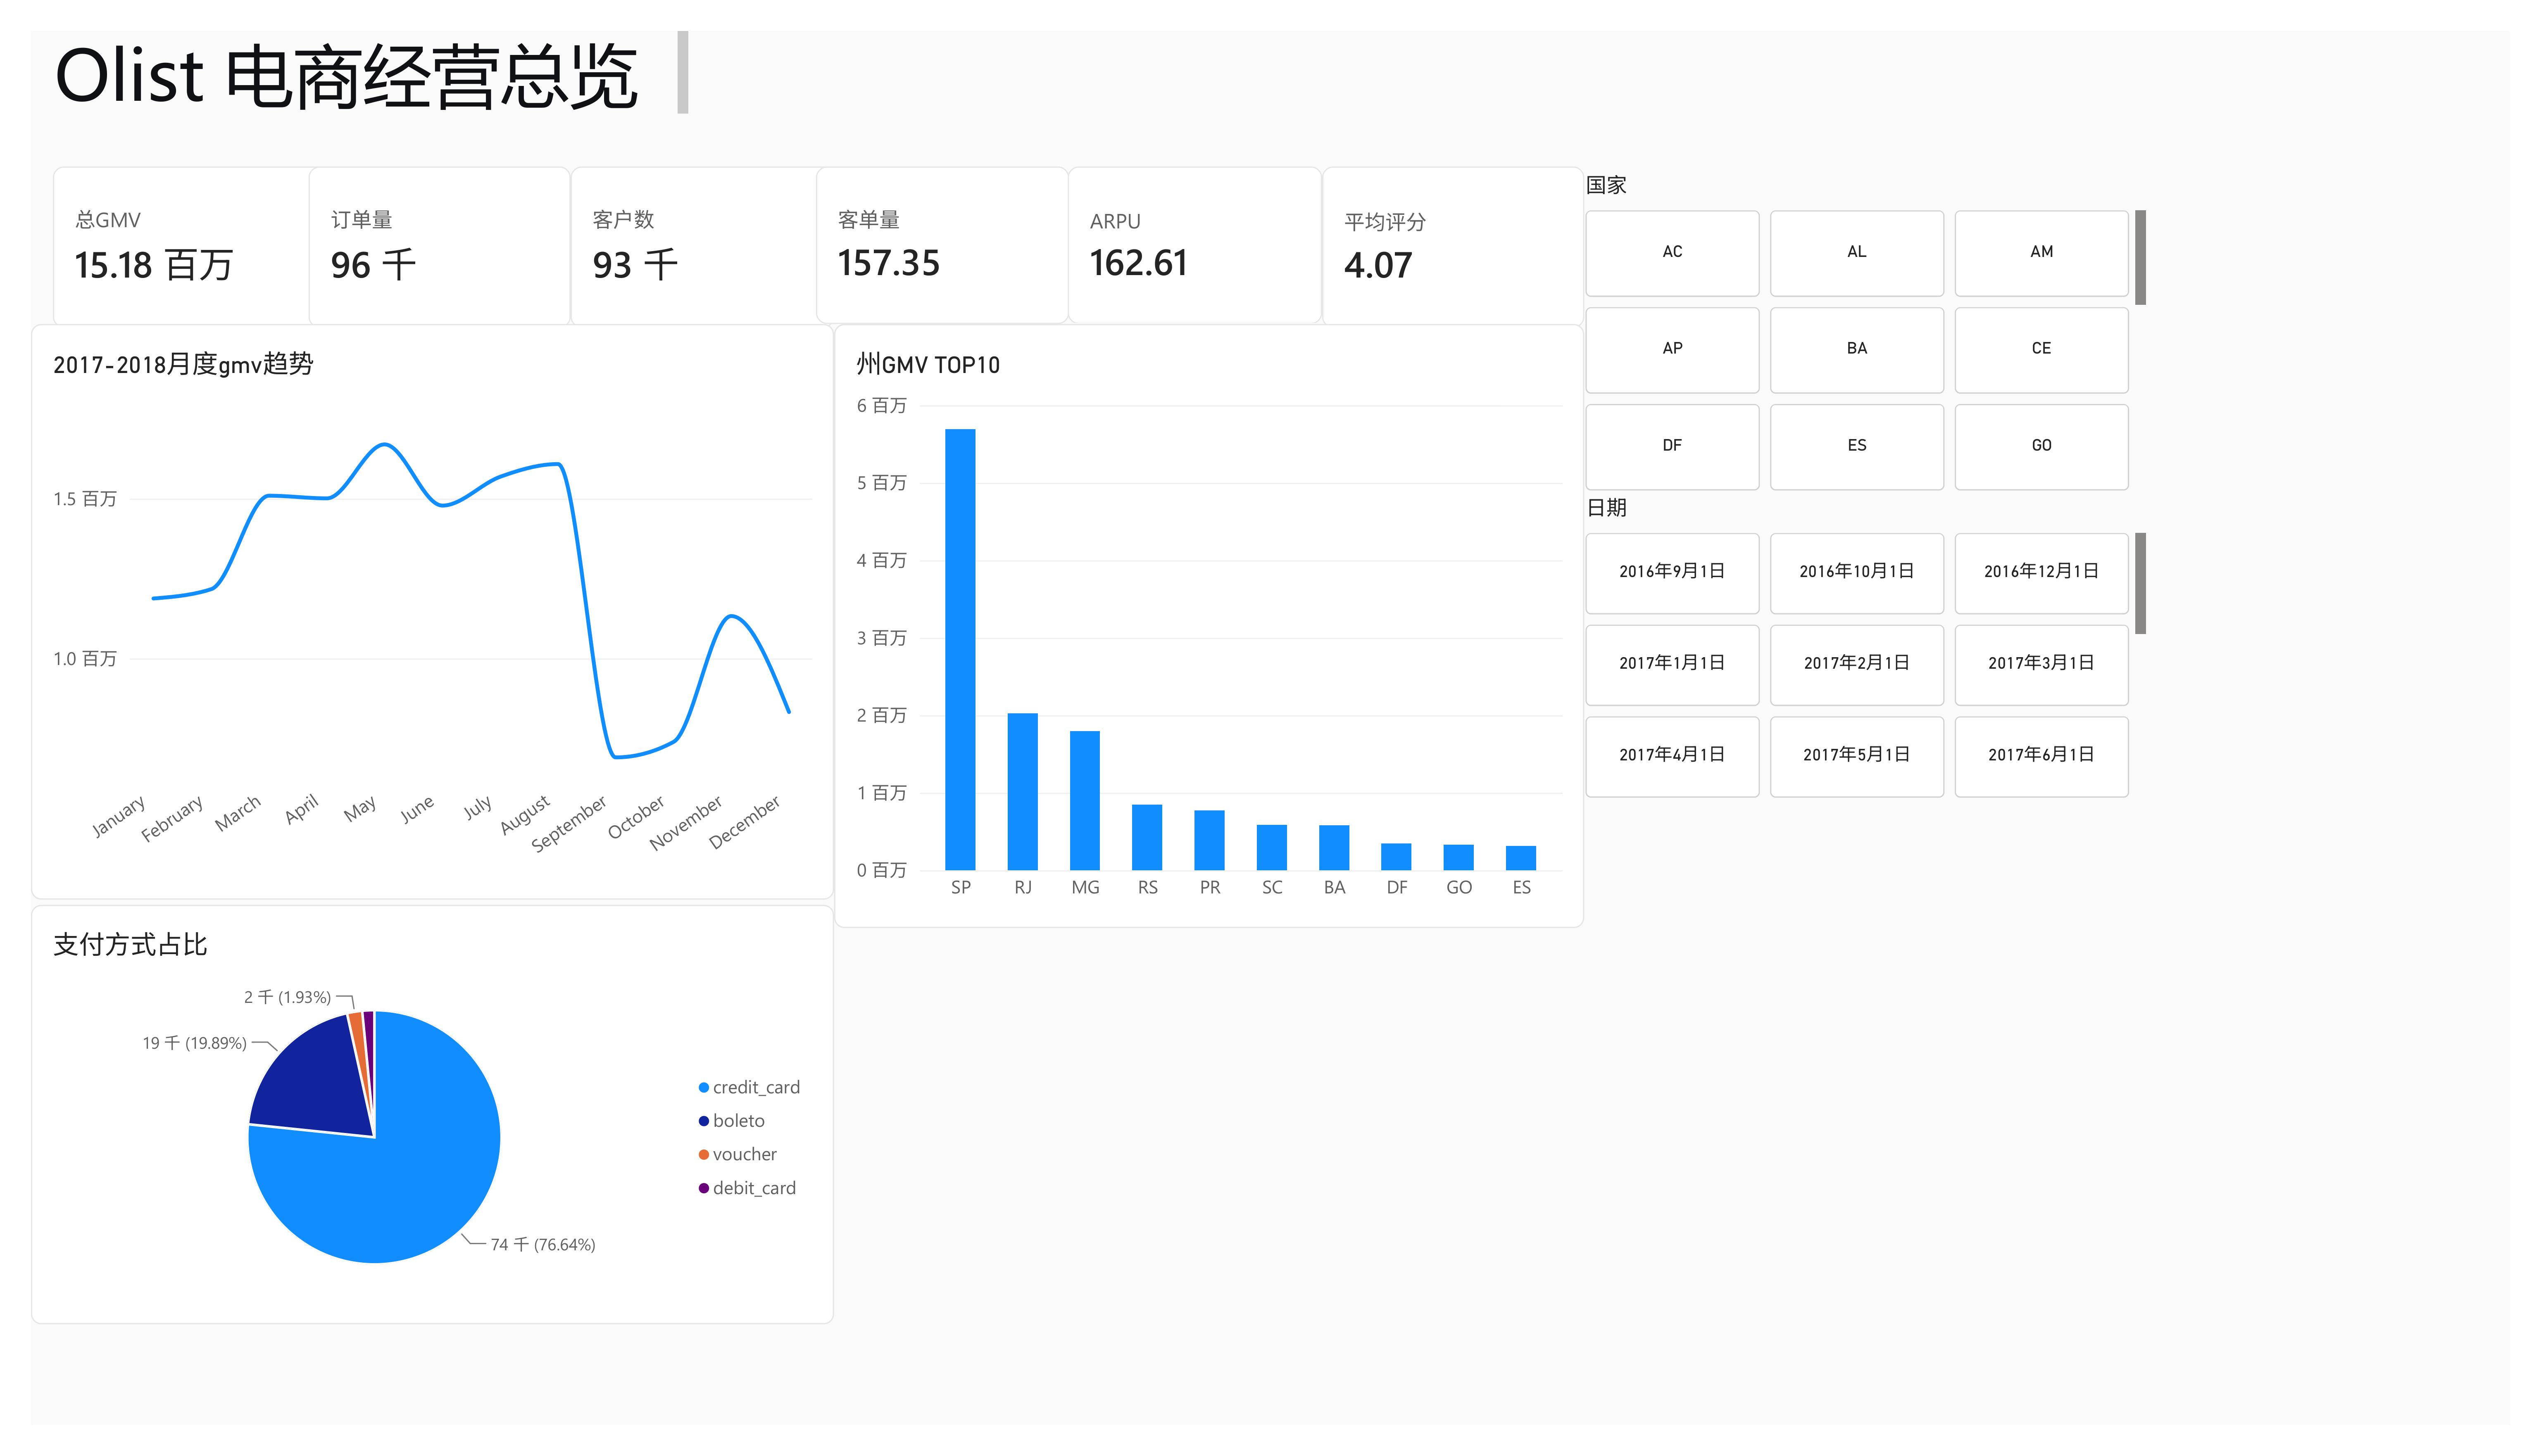

The dashboard page shown, as its layout file describes it:
{"tool":"powerbi","page":{"name":"经营总览","canvas":[1920,1080],"ordinal":0},"visuals":[{"type":"cardVisual","fields":{"Data":["_Measures.M_GMV"]},"box":[16.7,105,213.3,125],"z":0},{"type":"textbox","box":[17.8,0,491.1,65.6],"z":1000},{"type":"cardVisual","fields":{"Data":["_Measures.M_订单量"]},"box":[215,105,203.3,125],"z":2000},{"type":"cardVisual","fields":{"Data":["_Measures.M_客户数"]},"box":[418.3,105,203.3,125],"z":3000},{"type":"cardVisual","fields":{"Data":["_Measures.M_AOV"]},"box":[608.3,105,195.6,122.2],"z":4000},{"type":"cardVisual","fields":{"Data":["_Measures.M_ARPU"]},"box":[803.3,105,196.7,121.7],"z":5000},{"type":"cardVisual","fields":{"Data":["_Measures.M_平均评分"]},"box":[1000,105,203.3,125],"z":6000},{"type":"lineChart","title":"2017-2018月度gmv趋势","fields":{"Category":["monthly_gmv.order_month.变体.日期层次结构.月份"],"Y":["Sum(monthly_gmv.gmv)"]},"box":[0,226.7,621.7,446.7],"z":7000},{"type":"columnChart","title":"州GMV TOP10","fields":{"Category":["olist_clean.customer_state"],"Y":["_Measures.M_GMV"]},"box":[621.7,226.7,581.7,468.3],"z":8000},{"type":"pieChart","title":"支付方式占比","fields":{"Category":["payment_type.payment_type"],"Y":["Sum(payment_type.orders)"]},"box":[0,676.7,621.7,325],"z":9000},{"type":"advancedSlicerVisual","title":"国家","fields":{"Values":["olist_clean.customer_state"]},"box":[1204,106,434,250],"z":10000},{"type":"advancedSlicerVisual","title":"日期","fields":{"Values":["olist_clean.order_month"]},"box":[1204,356,434,240],"z":11000}]}

Visuals, with their boxes on the page's 1920x1080 design canvas (x1, y1, x2, y2). These are canvas units, not pixel positions in the 2541x1456 screenshot, which may show the page scaled, cropped or inside an application window:
cardVisual - _Measures.M_GMV: BBox(17, 105, 230, 230)
textbox: BBox(18, 0, 509, 66)
cardVisual - _Measures.M_订单量: BBox(215, 105, 418, 230)
cardVisual - _Measures.M_客户数: BBox(418, 105, 622, 230)
cardVisual - _Measures.M_AOV: BBox(608, 105, 804, 227)
cardVisual - _Measures.M_ARPU: BBox(803, 105, 1000, 227)
cardVisual - _Measures.M_平均评分: BBox(1000, 105, 1203, 230)
"2017-2018月度gmv趋势" lineChart: BBox(0, 227, 622, 673)
"州GMV TOP10" columnChart: BBox(622, 227, 1203, 695)
"支付方式占比" pieChart: BBox(0, 677, 622, 1002)
"国家" advancedSlicerVisual: BBox(1204, 106, 1638, 356)
"日期" advancedSlicerVisual: BBox(1204, 356, 1638, 596)
